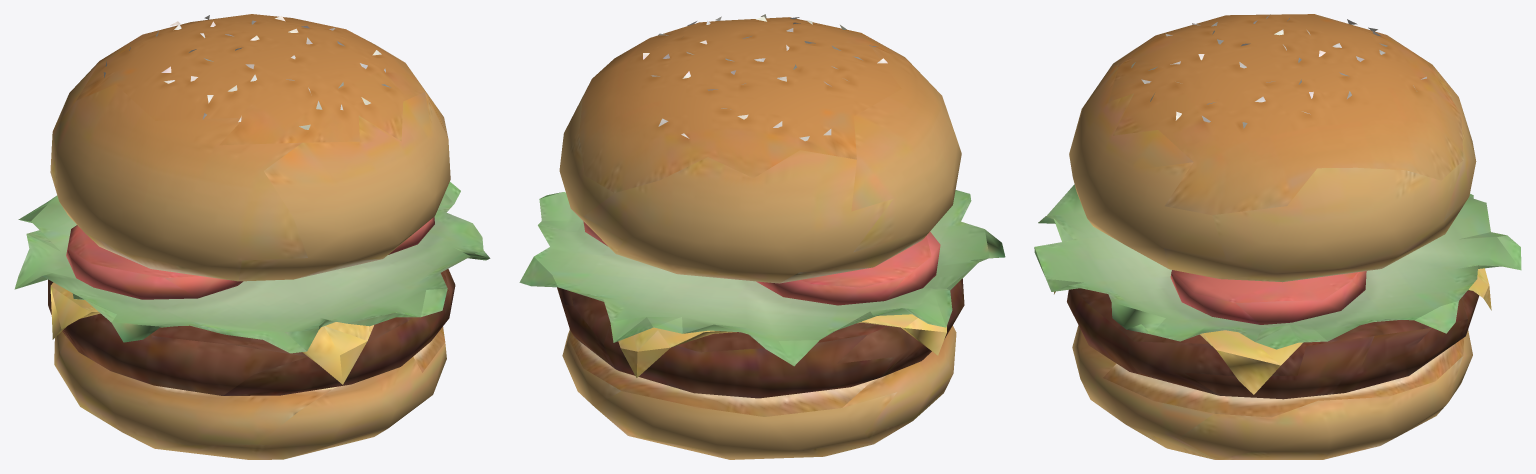
The model's file is food-burger.glb.
The picture shows the model from 3 angles, left to right: view 1: azimuth 30°, elevation 25°; view 2: azimuth 150°, elevation 25°; view 3: azimuth 270°, elevation 25°; orthographic projection.
Parts seen in each view (by area): view 1: burger_body; view 2: burger_body; view 3: burger_body.
Boxes of the visible parts, x1,y1,x2,y2 form: burger_body: [14, 14, 490, 459]; burger_body: [519, 14, 1005, 459]; burger_body: [1034, 14, 1521, 459].
Bounding box in the file's own units: 3.6 × 2.77 × 3.55.
Materials: 1 (1 with a texture image).
